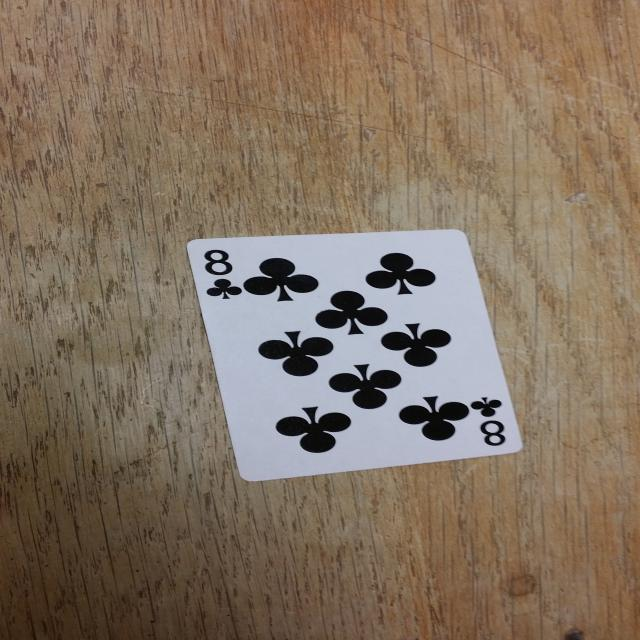8c: (457, 392, 523, 454), (192, 245, 252, 305)
